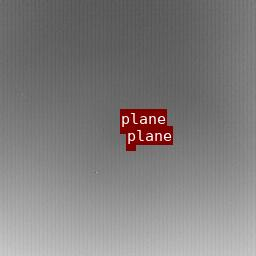plane: (120, 128, 133, 133), (126, 145, 135, 150)
